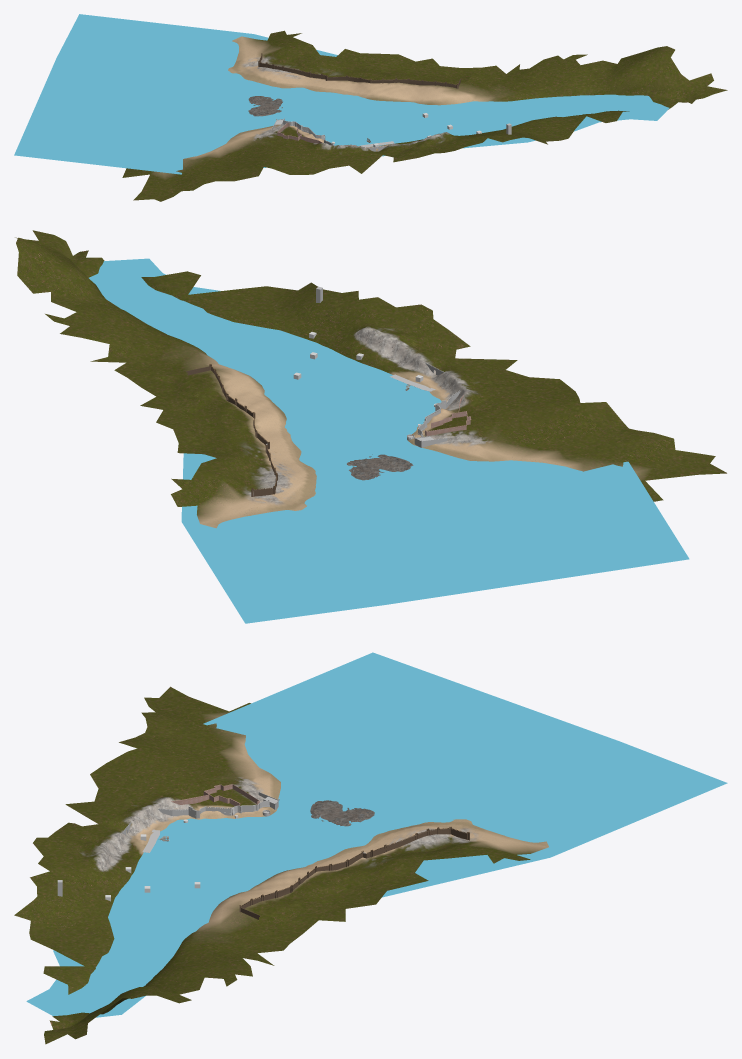
Rendered from Environment_Placeholder.fbx.
3 views of the same model, one above another, from view 1: azimuth 30°, elevation 25°; view 2: azimuth 150°, elevation 25°; view 3: azimuth 270°, elevation 25° (orthographic). The views are drawn at different scales.
Parts seen in each view (by area): view 1: Plane.029, EXPORT_GOOGLE_SAT_WM.092, Cube.193; view 2: Plane.029, EXPORT_GOOGLE_SAT_WM.092, Cube.193; view 3: Plane.029, EXPORT_GOOGLE_SAT_WM.092, Cube.193, Cube.178, Retopo_Plane.003.
Part boxes in pixels (box(x1,y1,x2,y2)): Plane.029: box(14, 14, 669, 174); EXPORT_GOOGLE_SAT_WM.092: box(122, 30, 727, 201); Cube.193: box(258, 53, 460, 88); Plane.029: box(89, 258, 689, 623); EXPORT_GOOGLE_SAT_WM.092: box(15, 230, 726, 528); Cube.193: box(186, 364, 277, 496); Plane.029: box(26, 652, 727, 1017); EXPORT_GOOGLE_SAT_WM.092: box(14, 686, 548, 1044); Cube.193: box(239, 826, 469, 919); Cube.178: box(158, 800, 269, 818); Retopo_Plane.003: box(171, 784, 259, 806).
Size of the model in its own units: 144595 by 11430 by 108696.
